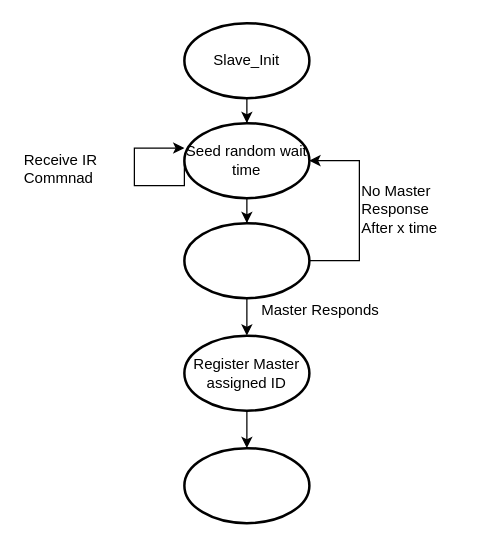
Some shapes in this 480 by 545 pixel diagram are drawn without their labels. Here are the shapes that lost their labels. From the top down, the centre of each, then its label:
point (246, 260): Send Beacon Command
point (246, 485): Send ACK with slave ID k-times
